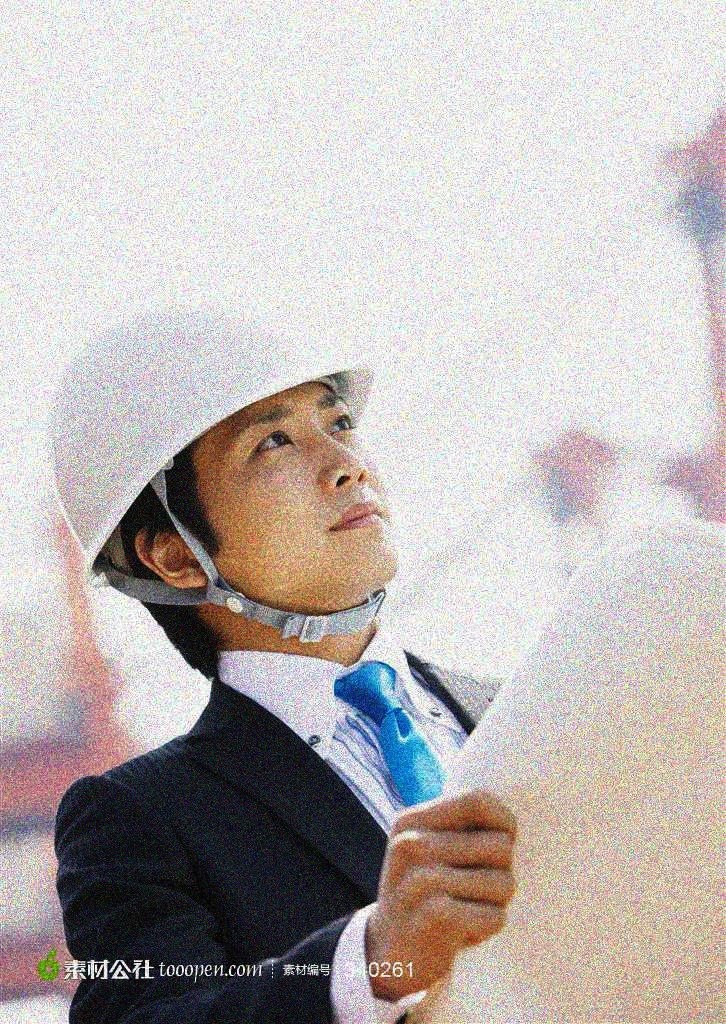helmet: (44, 296, 401, 672)
